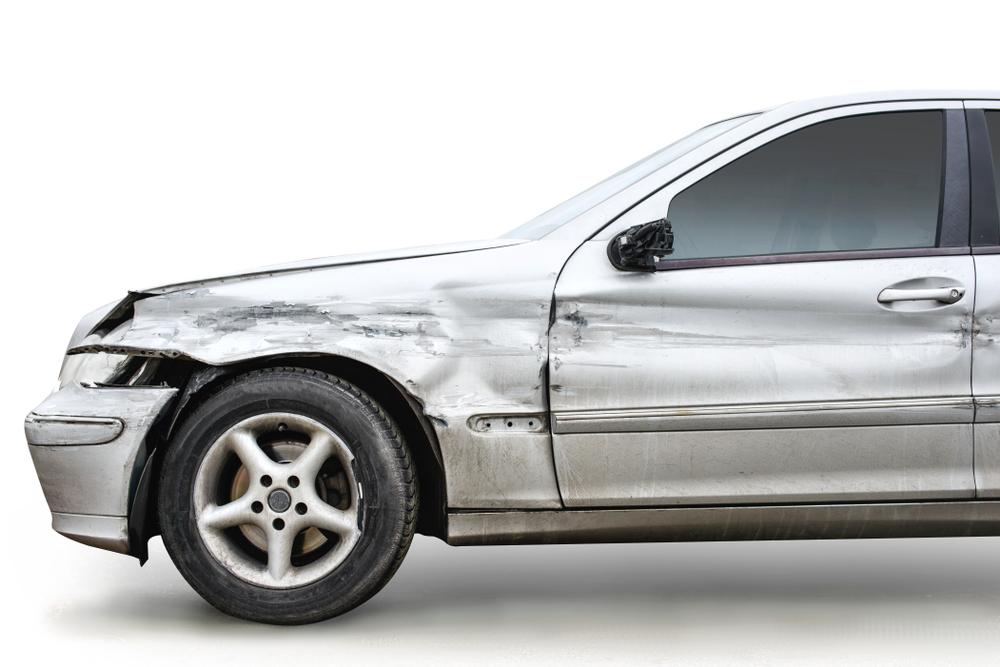dent: (103, 283, 546, 408), (545, 294, 974, 376), (971, 303, 1000, 357)
